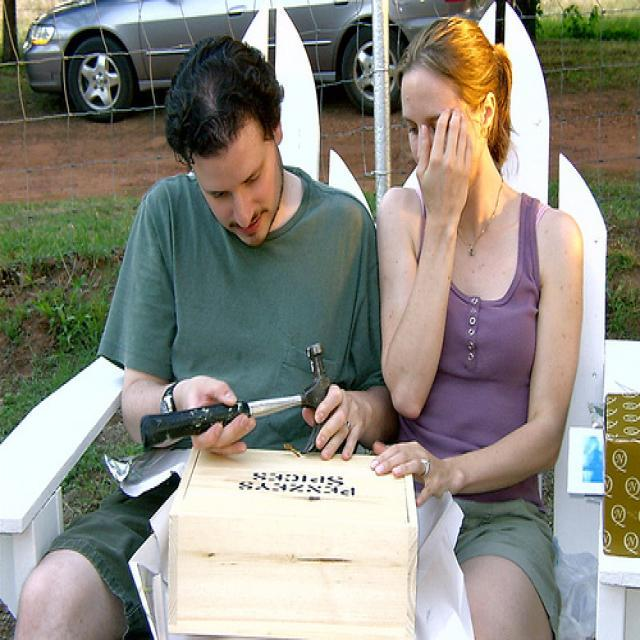hammer: (125, 333, 346, 486)
